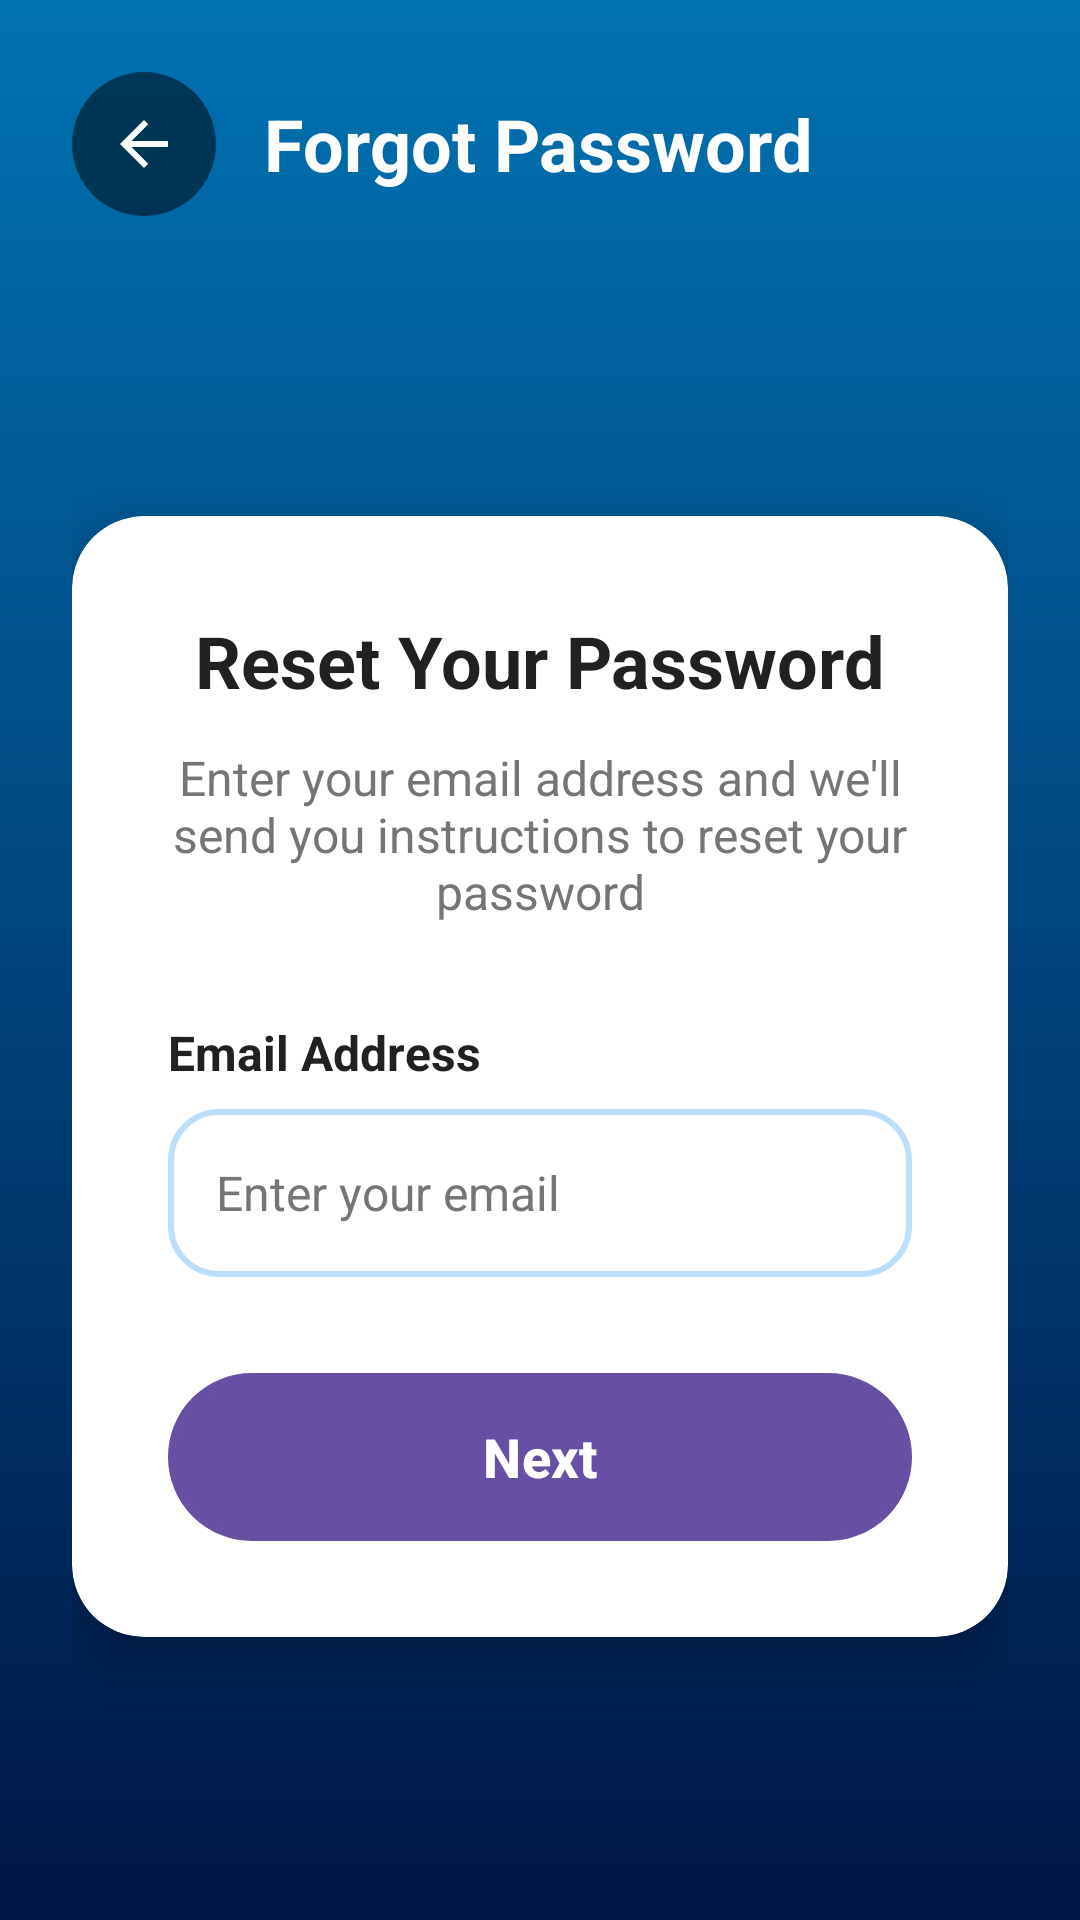

Icons on this 1080px×1920px Android screen, each with the point to tap as (x=x, y=y):
Back button: (x=144, y=144)
